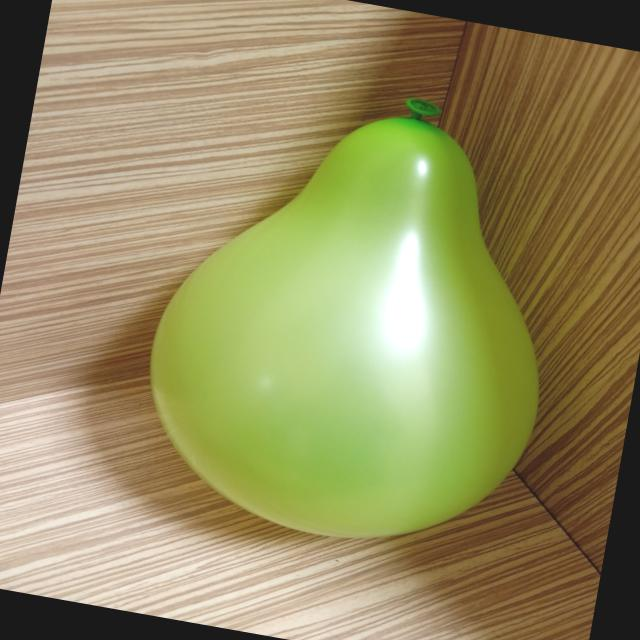balloon: (150, 98, 538, 537)
